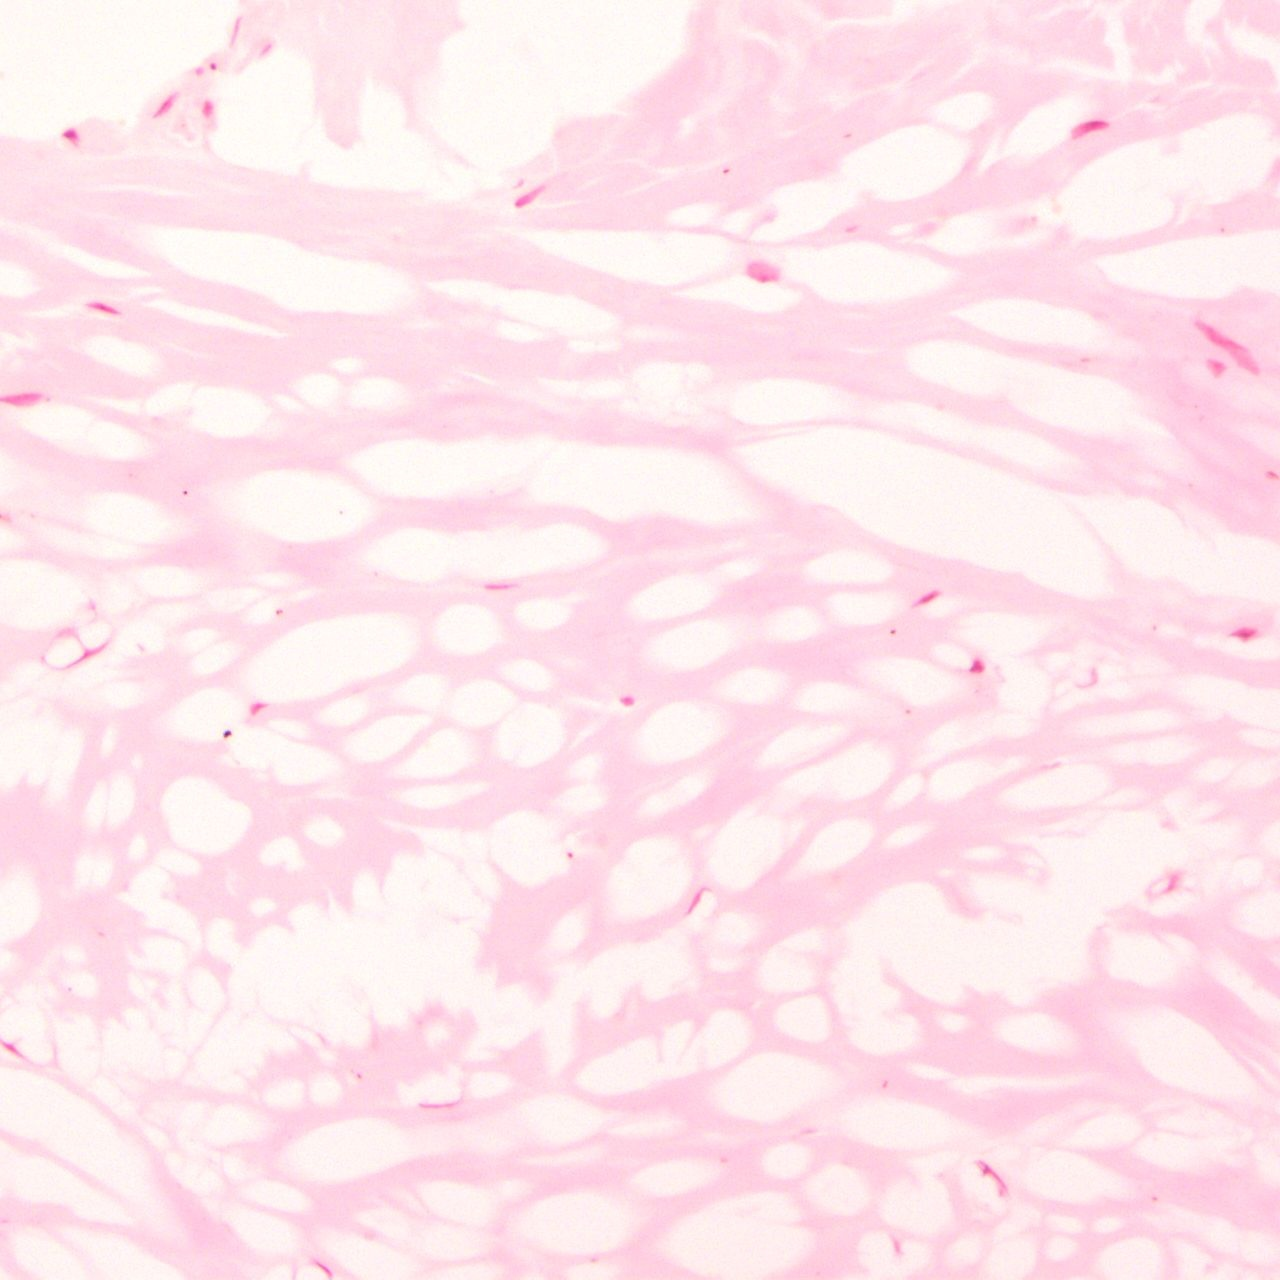dust: (222, 729, 232, 738), (275, 607, 284, 617), (843, 132, 852, 138), (181, 489, 189, 495), (721, 169, 730, 173), (1218, 226, 1225, 232), (1152, 624, 1157, 632), (338, 509, 343, 515), (373, 571, 379, 577), (904, 709, 911, 714), (356, 1073, 361, 1080), (888, 629, 896, 633), (349, 1068, 354, 1073)
nucleus-AC: (1192, 314, 1265, 377), (971, 1155, 1014, 1201), (1065, 113, 1111, 144), (743, 258, 782, 287), (86, 295, 122, 321), (512, 184, 546, 210), (682, 886, 709, 917), (1200, 352, 1228, 380), (152, 91, 178, 122), (910, 587, 941, 612), (224, 14, 245, 48), (256, 39, 275, 60), (247, 697, 267, 716), (1228, 627, 1257, 639), (62, 127, 80, 141), (619, 696, 636, 707), (969, 660, 982, 673), (203, 100, 212, 117), (195, 66, 204, 75), (209, 62, 217, 70)
